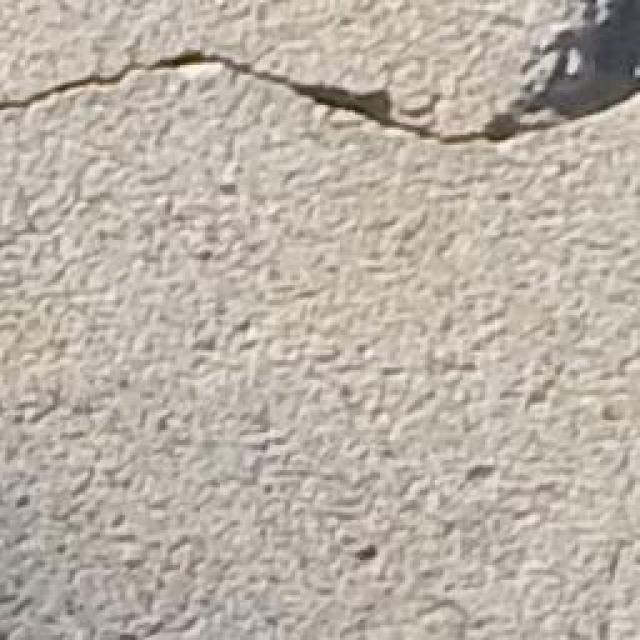concrete-crack: (0, 0, 640, 153)
